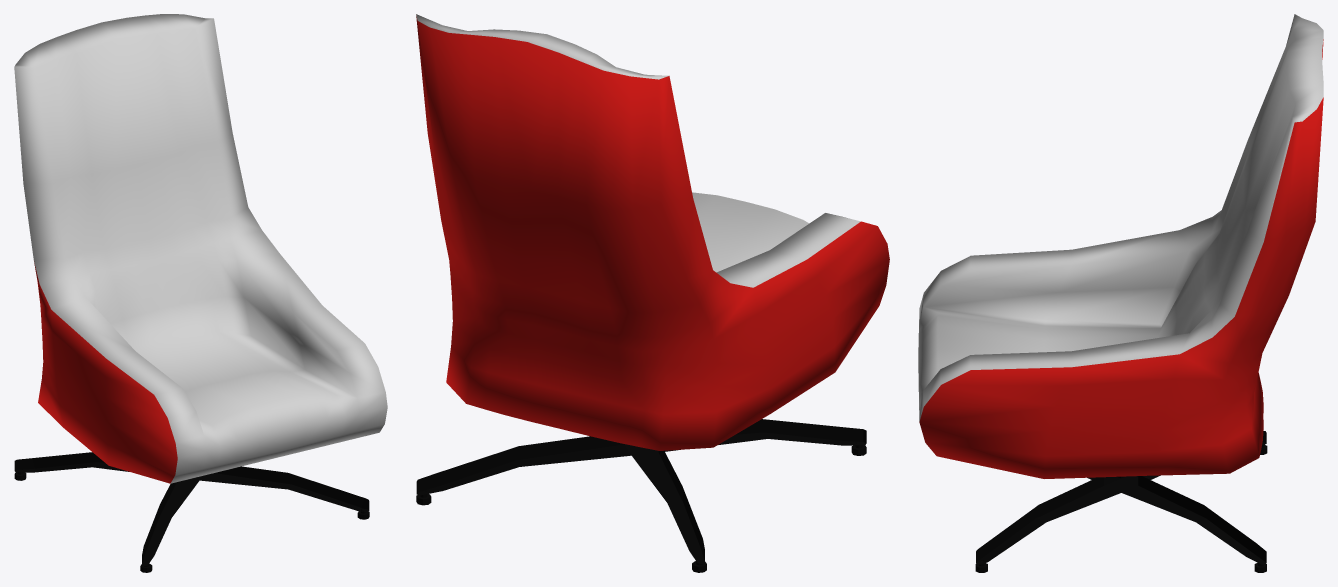
Rendered from armchair.fbx.
3 renders of one model, left to right at view 1: azimuth 30°, elevation 25°; view 2: azimuth 150°, elevation 25°; view 3: azimuth 270°, elevation 25°, orthographic. The views are drawn at different scales.
Parts seen in each view (by area): view 1: chair-low (×3); view 2: chair-low (×3); view 3: chair-low (×3).
Boxes of the visible parts, <box> form: chair-low (×3): <box>14,14,387,572</box>; chair-low (×3): <box>416,14,889,572</box>; chair-low (×3): <box>918,14,1323,572</box>.
Bounding box in the file's own units: 102 × 169 × 136.
